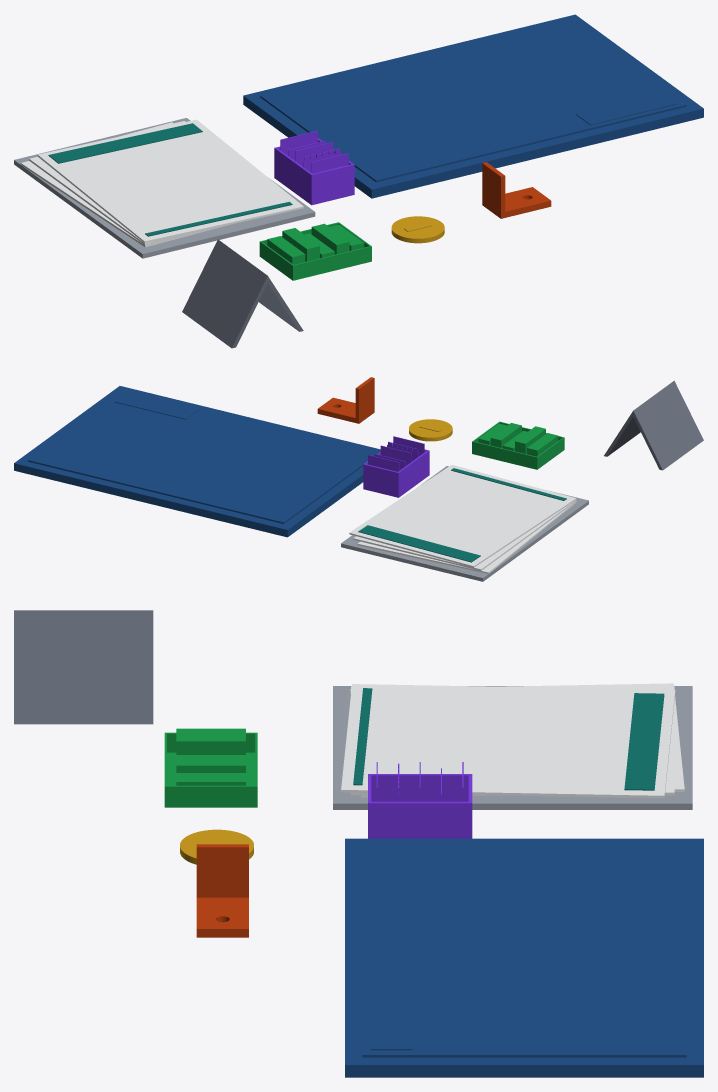
The picture shows the model from 3 angles, top to bottom: view 1: azimuth 30°, elevation 25°; view 2: azimuth 150°, elevation 25°; view 3: azimuth 270°, elevation 25°; orthographic projection. The views are drawn at different scales.
Visible parts, largest first — view 1: Drawing sheet on board (ANSI B), Controlled document set (PRB, PRC, REQ), Agent guardrail card (CLAUDE.md, phase cap), Bought open-source parts (8, 10, 11, 13), Repository reader (shared metadata), Template repository folder, PDF house style: header and status bands, Printed massing part (concept renders), TRL gate badge; view 2: Drawing sheet on board (ANSI B), Controlled document set (PRB, PRC, REQ), Agent guardrail card (CLAUDE.md, phase cap), Bought open-source parts (8, 10, 11, 13), Repository reader (shared metadata), Template repository folder, PDF house style: header and status bands, Printed massing part (concept renders), TRL gate badge; view 3: Drawing sheet on board (ANSI B), Controlled document set (PRB, PRC, REQ), Agent guardrail card (CLAUDE.md, phase cap), Bought open-source parts (8, 10, 11, 13), Repository reader (shared metadata), Template repository folder, Printed massing part (concept renders), PDF house style: header and status bands, TRL gate badge.
Part boxes in pixels (box(x1,y1,x2,y2)): Drawing sheet on board (ANSI B): box(243, 14, 703, 198); Controlled document set (PRB, PRC, REQ): box(20, 119, 303, 247); Agent guardrail card (CLAUDE.md, phase cap): box(182, 239, 303, 348); Bought open-source parts (8, 10, 11, 13): box(259, 222, 371, 280); Repository reader (shared metadata): box(274, 130, 354, 205); Template repository folder: box(14, 118, 315, 258); PDF house style: header and status bands: box(48, 123, 292, 236); Printed massing part (concept renders): box(482, 162, 551, 218); TRL gate badge: box(391, 216, 444, 243); Drawing sheet on board (ANSI B): box(14, 386, 380, 537); Controlled document set (PRB, PRC, REQ): box(349, 465, 576, 573); Agent guardrail card (CLAUDE.md, phase cap): box(604, 380, 703, 470); Bought open-source parts (8, 10, 11, 13): box(472, 421, 564, 469); Repository reader (shared metadata): box(363, 436, 429, 497); Template repository folder: box(341, 466, 588, 581); PDF house style: header and status bands: box(358, 468, 566, 562); Printed massing part (concept renders): box(317, 377, 374, 423); TRL gate badge: box(409, 419, 452, 441); Drawing sheet on board (ANSI B): box(345, 838, 703, 1077); Controlled document set (PRB, PRC, REQ): box(341, 683, 684, 798); Agent guardrail card (CLAUDE.md, phase cap): box(14, 610, 153, 724); Bought open-source parts (8, 10, 11, 13): box(164, 728, 257, 807); Repository reader (shared metadata): box(368, 762, 472, 838); Template repository folder: box(333, 686, 692, 809); Printed massing part (concept renders): box(196, 844, 248, 937); PDF house style: header and status bands: box(353, 688, 664, 790); TRL gate badge: box(180, 829, 253, 864).
Size of the model in its own units: 0.8209 by 0.085 by 0.5947.
